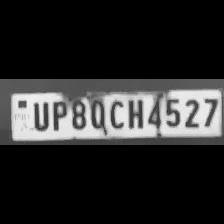2: (180, 95, 200, 129)
4: (146, 94, 162, 128)
5: (161, 94, 181, 128)
7: (198, 94, 218, 128)
8: (68, 97, 88, 131)
C: (106, 96, 124, 130)
H: (124, 96, 144, 130)
P: (48, 98, 68, 132)
Q: (88, 96, 106, 130)
U: (28, 98, 50, 132)
